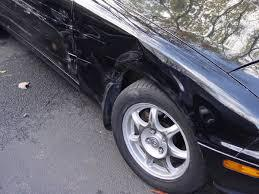fender-dent: (73, 13, 155, 90)
